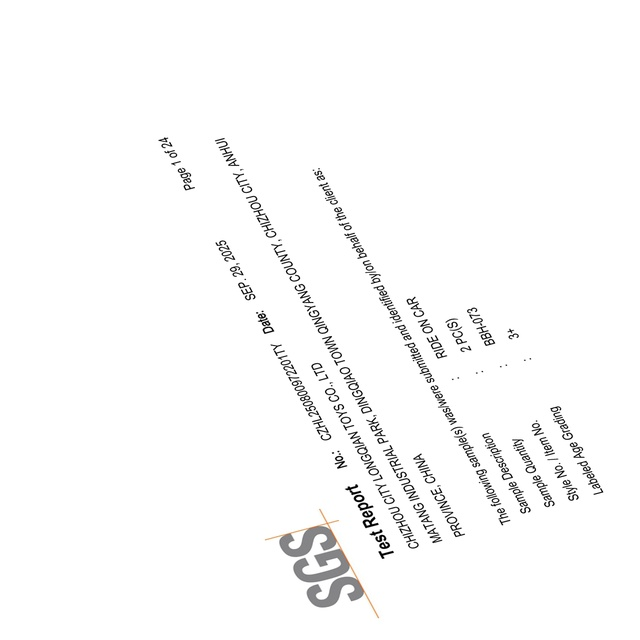sgs: (278, 524, 364, 609)
